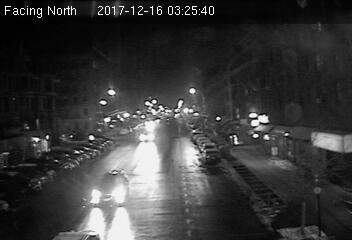car: (91, 170, 131, 206), (203, 149, 220, 164)
